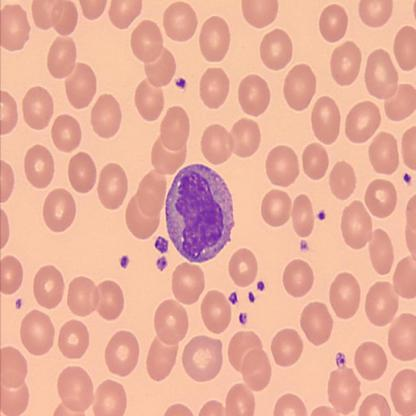Monocyte: (164, 161, 236, 265)
